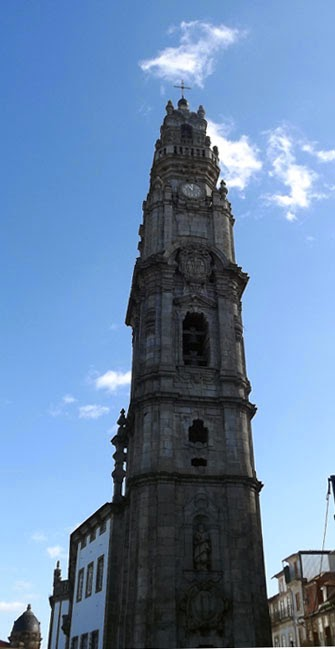clerigos: (111, 78, 272, 648)
